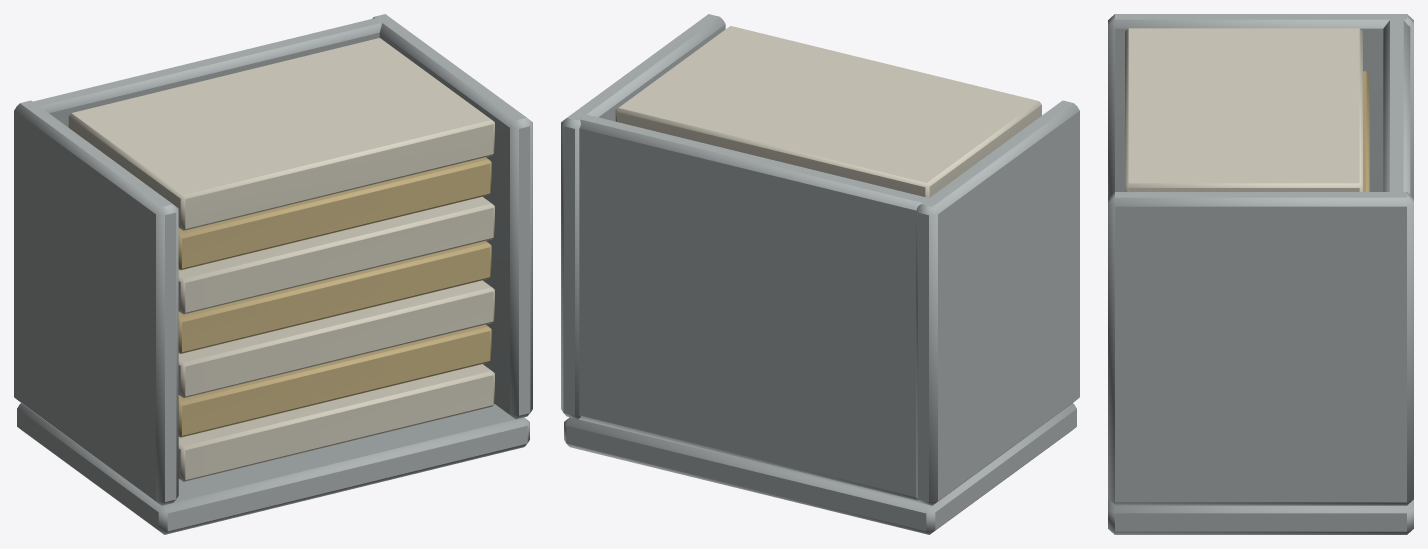
File: rest-napkin-holder.glb
3 views of the same model, side by side, from view 1: azimuth 30°, elevation 25°; view 2: azimuth 150°, elevation 25°; view 3: azimuth 270°, elevation 25° (orthographic). The views are drawn at different scales.
Parts seen in each view (by area): view 1: napkins__paper, case__chrome; view 2: case__chrome, napkins__paper; view 3: case__chrome, napkins__paper.
Part boxes in pixels (left/top/right/bottom): napkins__paper: left=68, top=38, right=494, bottom=481; case__chrome: left=14, top=14, right=532, bottom=534; case__chrome: left=561, top=14, right=1079, bottom=534; napkins__paper: left=615, top=26, right=1041, bottom=197; case__chrome: left=1108, top=14, right=1413, bottom=534; napkins__paper: left=1125, top=28, right=1369, bottom=191.
Size of the model in its own units: 0.132 by 0.11 by 0.09.
